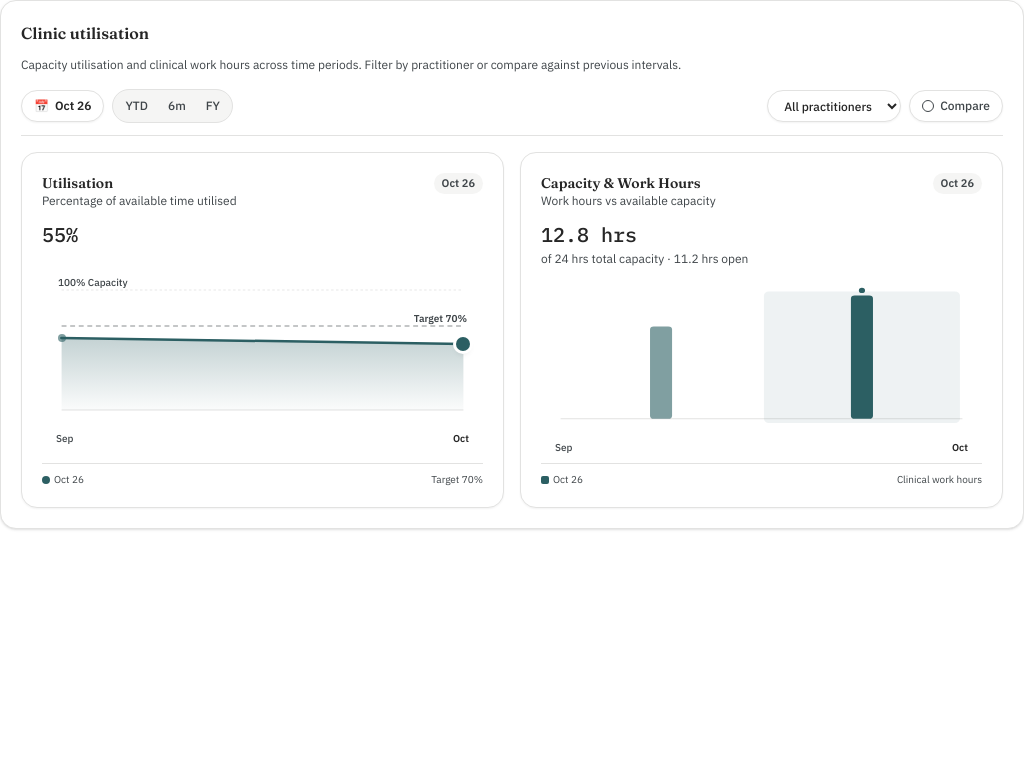
ClinicUtilisationView (Splose-inspired redesign) › switches the active period when clicking a point or bar in the KPI cards
Click Sep 26 point in utilisation card
Click the button named "Sep 26: 60%": (62, 338) [46,322,78,354]
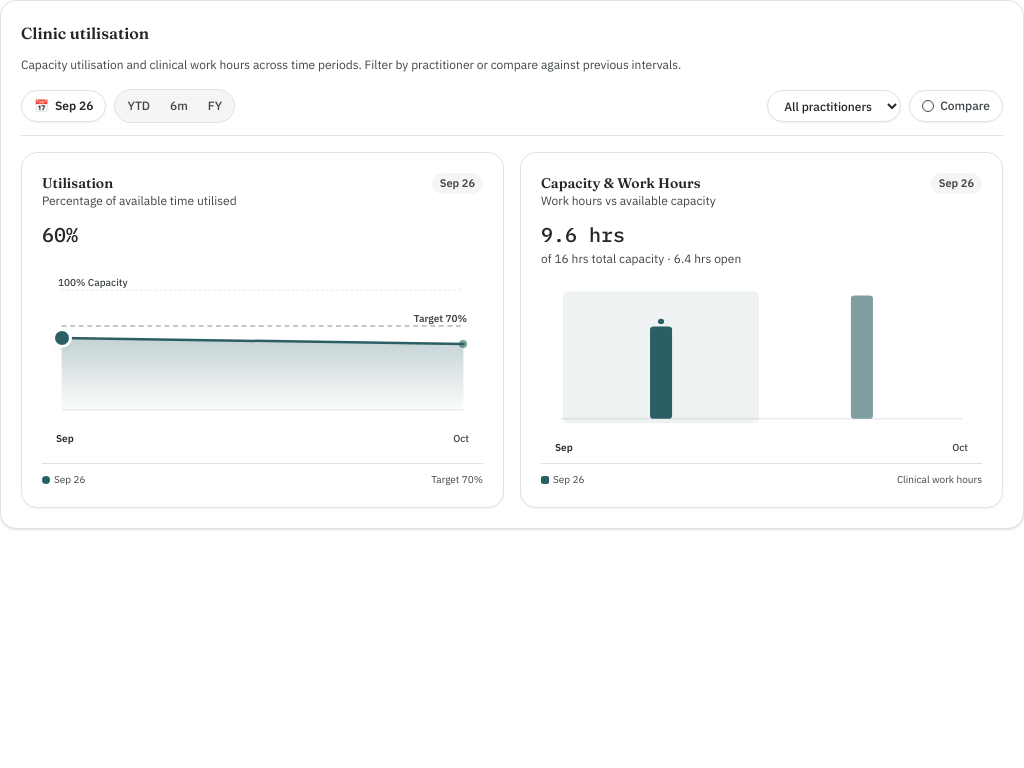
Result: the text "60%" is shown at [42,221,78,249]
